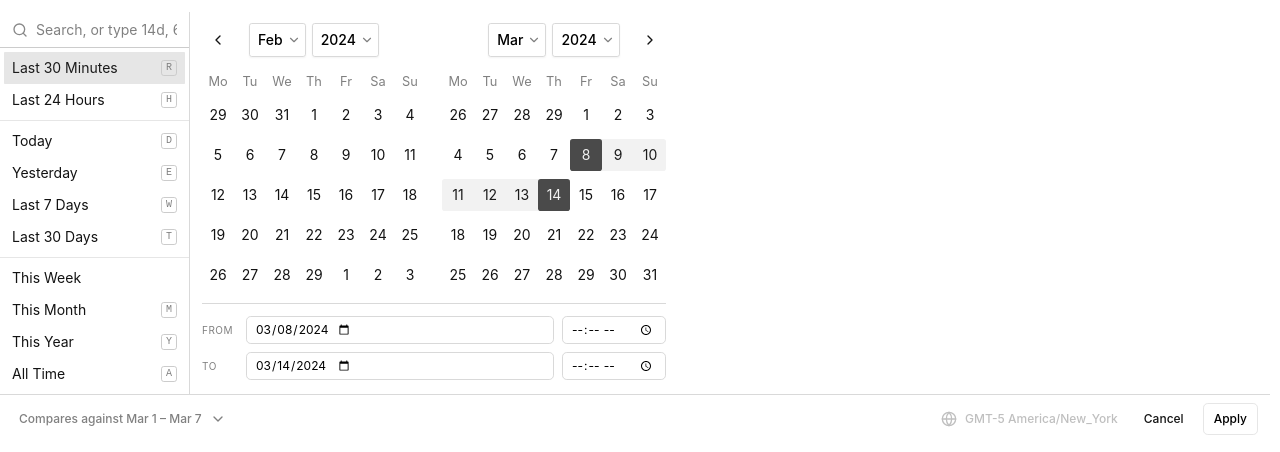
Test: RangePanel draft › a fresh click starts a new range rather than extending the old one
Click the 2nd button "20": (522, 235) [506,219,538,251]
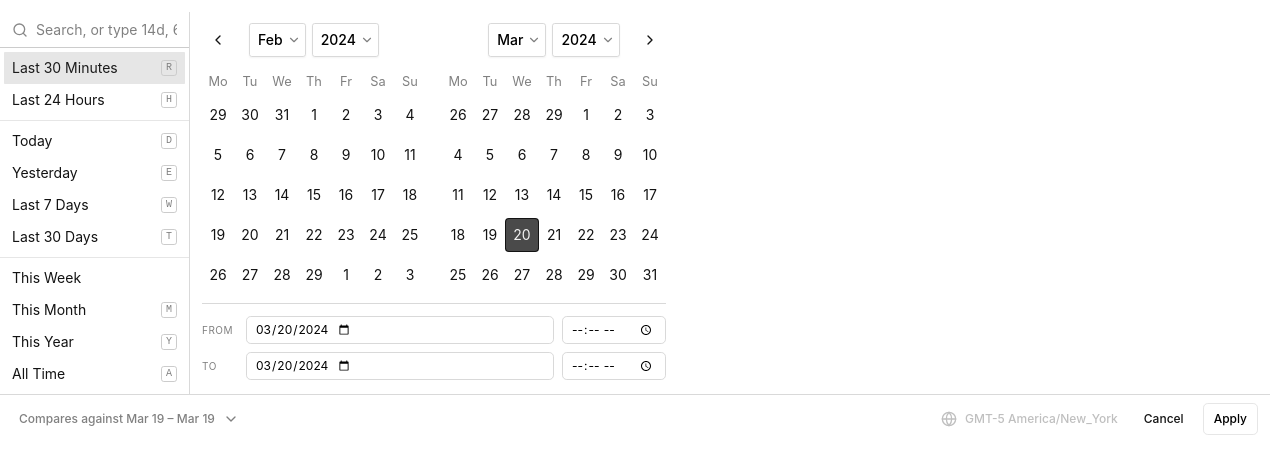
Expected: the date field named "Start date" holds "2024-03-20", [246,316,554,344]
Expected: the date field named "End date" holds "2024-03-20", [246,352,554,380]
